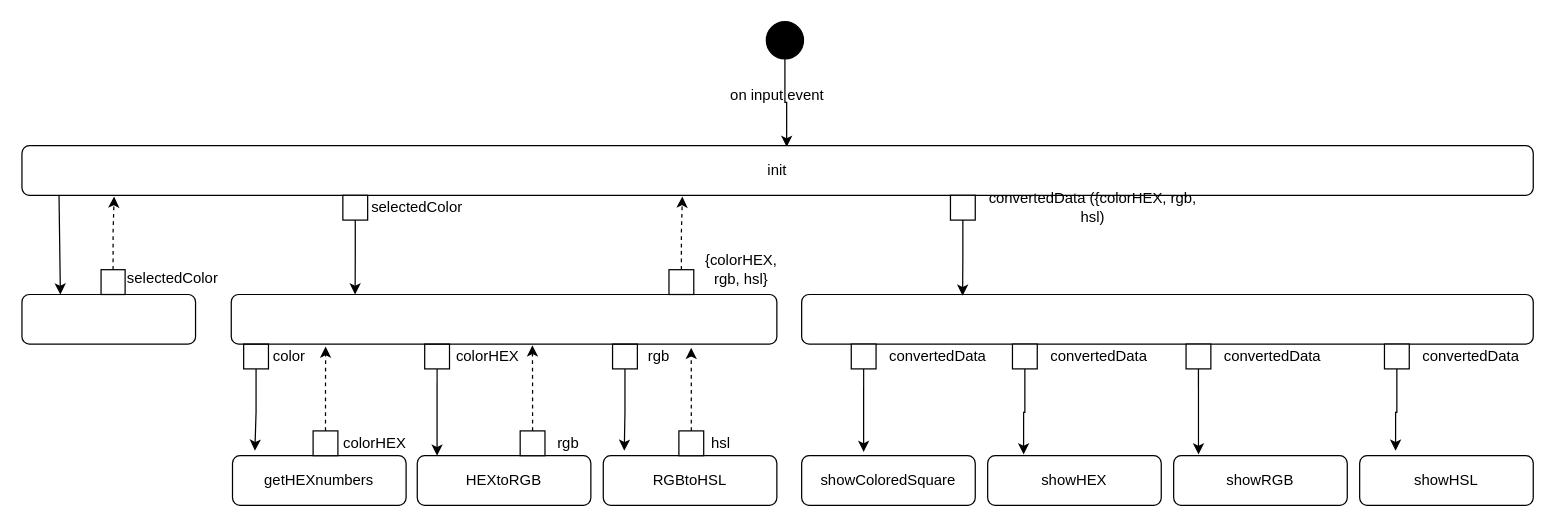
The diagram is 1555 pixels wide and 527 high, and some of its shapes have lost their labels. Here are the shapes that lost their labels. From the top down, the centre of each, then its label:
At pixel 108 318: "getColor".
At pixel 503 318: "prepareData".
At pixel 1166 318: "showColor".
